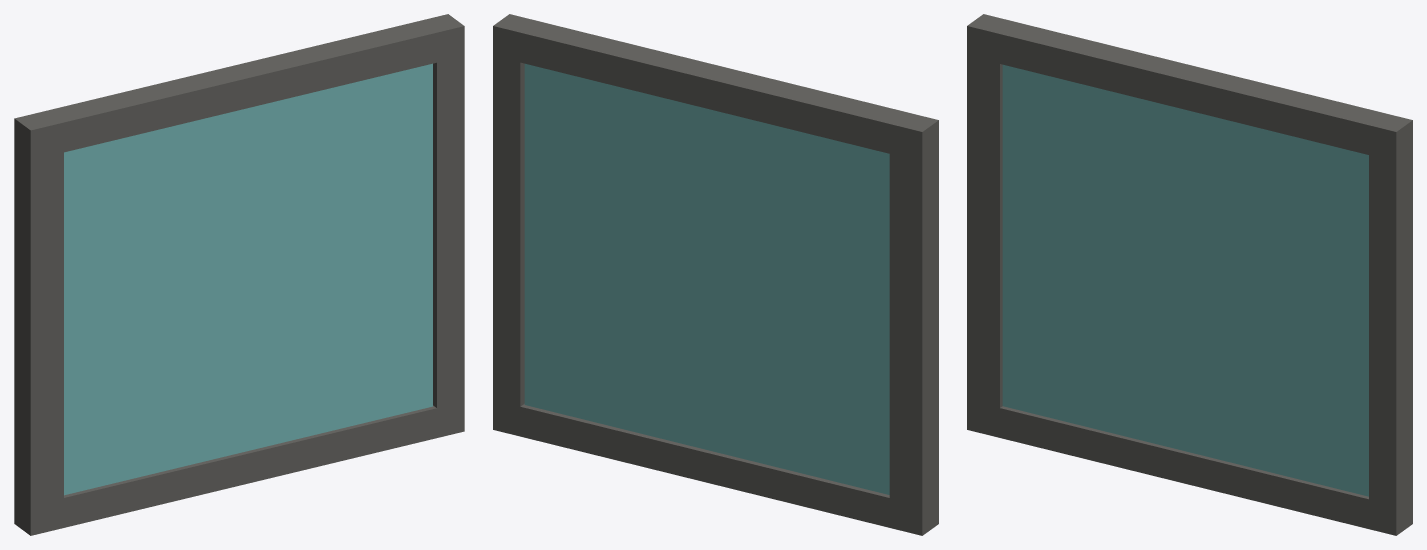
The model's file is Childrens_Room_Window_2.fbx.
3 views of the same model, side by side, from view 1: azimuth 30°, elevation 25°; view 2: azimuth 150°, elevation 25°; view 3: azimuth 330°, elevation 25° (orthographic).
Visible parts, largest first — view 1: Childrens_Room_Window_2; view 2: Childrens_Room_Window_2; view 3: Childrens_Room_Window_2.
Part boxes in pixels (x1,y1,x2,y2): Childrens_Room_Window_2: [14, 14, 464, 535]; Childrens_Room_Window_2: [493, 14, 938, 535]; Childrens_Room_Window_2: [967, 14, 1412, 535].
Bounding box in the file's own units: 182 × 13.01 × 163.
